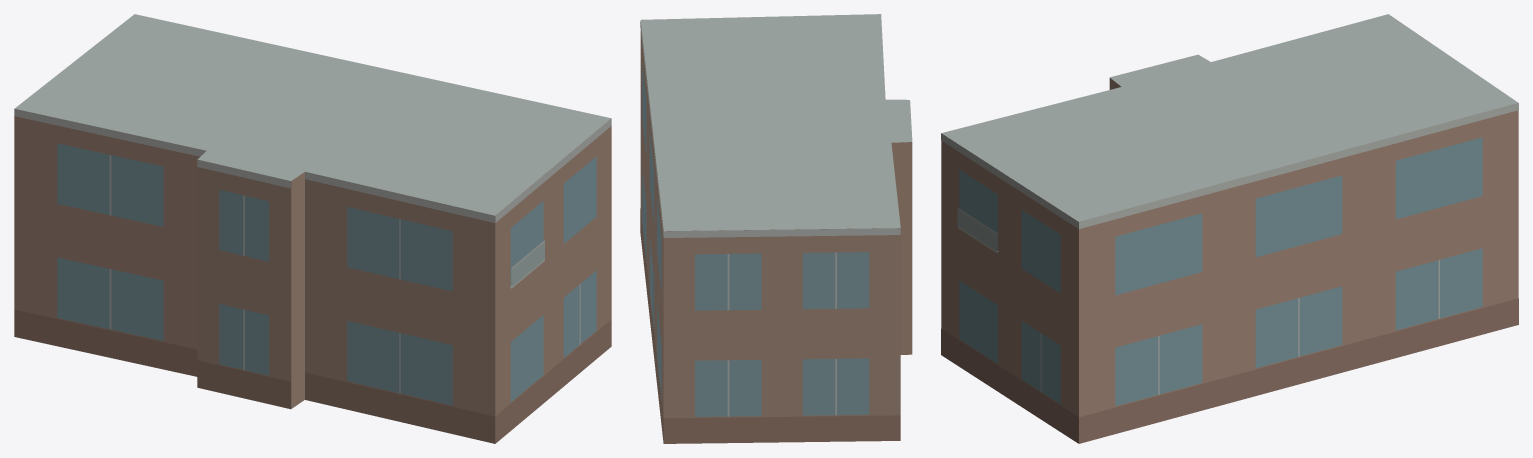
File: survey-upis-32625510.glb
3 renders of one model, left to right at view 1: azimuth 30°, elevation 25°; view 2: azimuth 150°, elevation 25°; view 3: azimuth 270°, elevation 25°, orthographic. The views are drawn at different scales.
Parts seen in each view (by area): view 1: survey-upis-32625510.tmp; view 2: survey-upis-32625510.tmp; view 3: survey-upis-32625510.tmp.
Part boxes in pixels (left/top/right/bottom): survey-upis-32625510.tmp: left=14, top=14, right=611, bottom=443; survey-upis-32625510.tmp: left=640, top=14, right=912, bottom=443; survey-upis-32625510.tmp: left=941, top=14, right=1518, bottom=443.
Bounding box in the file's own units: 15.09 × 7.5 × 17.7.
